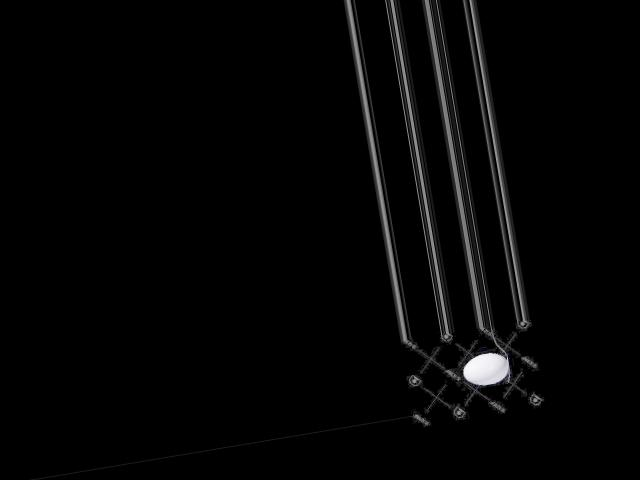egg: (461, 349, 511, 388)
